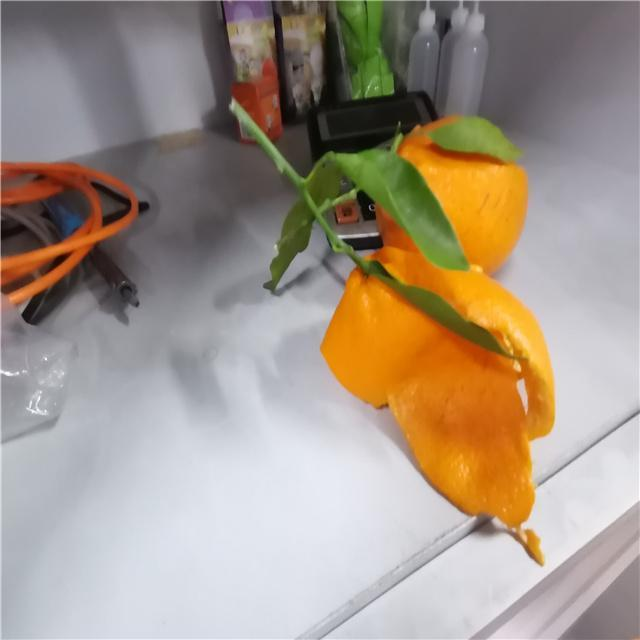orange-peel: (220, 95, 563, 570)
